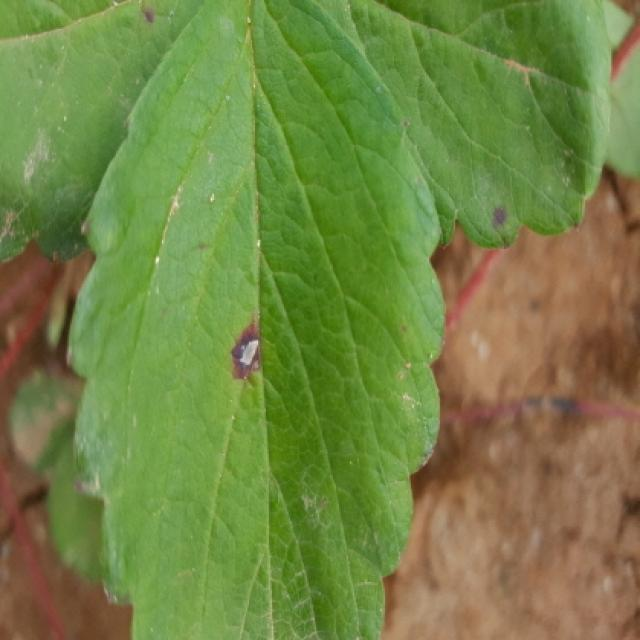Leaf Spot: (63, 0, 448, 638), (319, 0, 614, 249), (2, 0, 205, 265)
